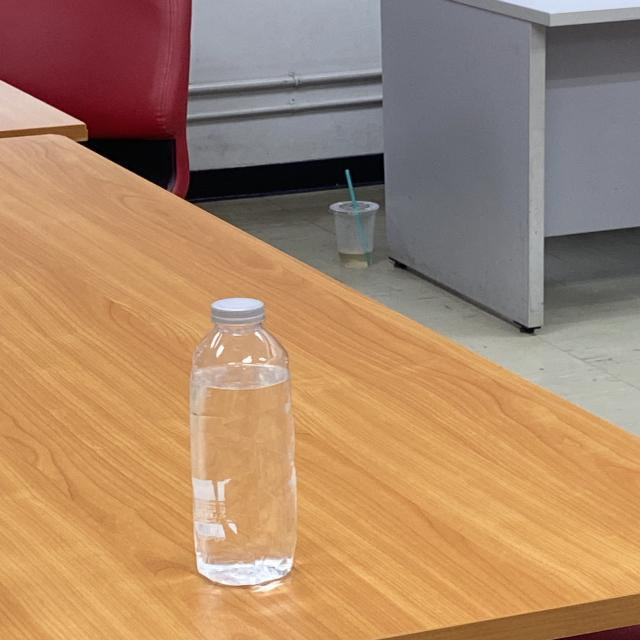bottle: (189, 298, 300, 586)
